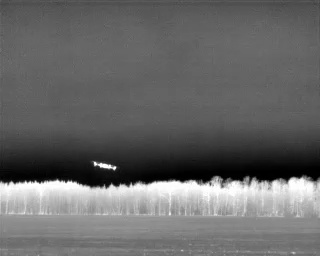DRONE: (88, 156, 121, 175)
